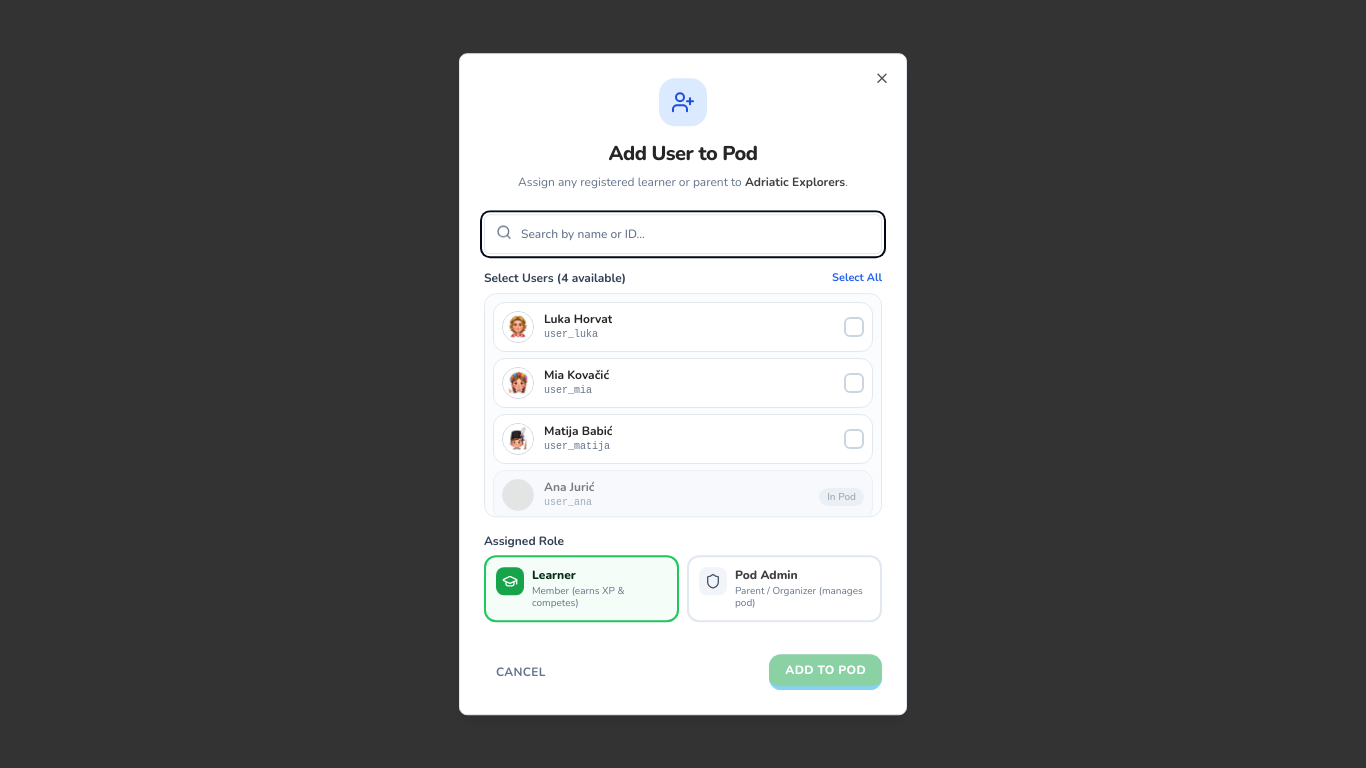
Test: <AddMemberToPodModal /> State Machine & Selection Logic › updates dynamic footer submit button text and disabled state based on count
The image size is (1366, 768).
Expected: the button "Add to Pod" is disabled, [769,654,882,690]
// Select 1 user (Luka)
Click the button "Luka Horvat user_luka": click(518, 327) [493,302,873,352]
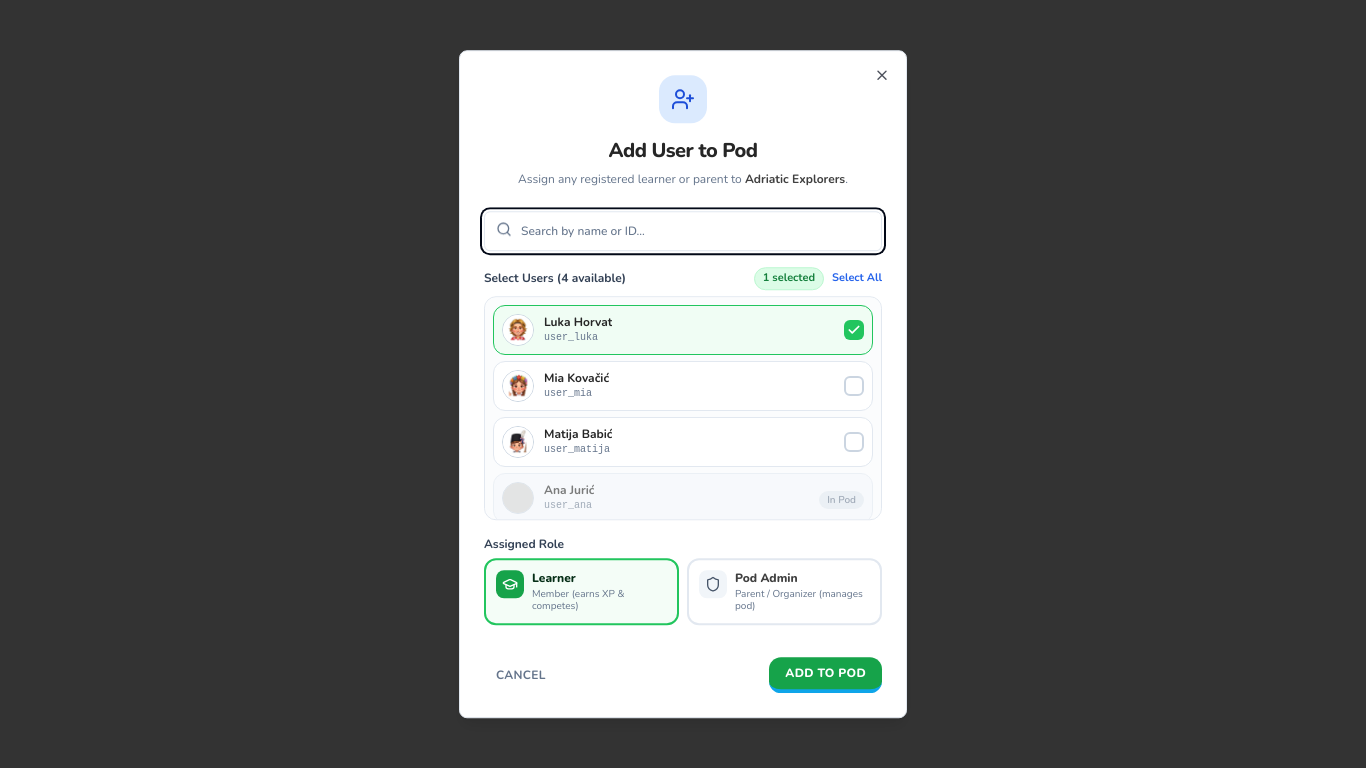
Expected: the button "Add to Pod" is shown, [769,657,882,693]
Result: the button "Add to Pod" is enabled at [769,657,882,693]
// Select 2nd user (Mia)
Click the button "Mia Kovačić user_mia": click(518, 386) [493,361,873,411]
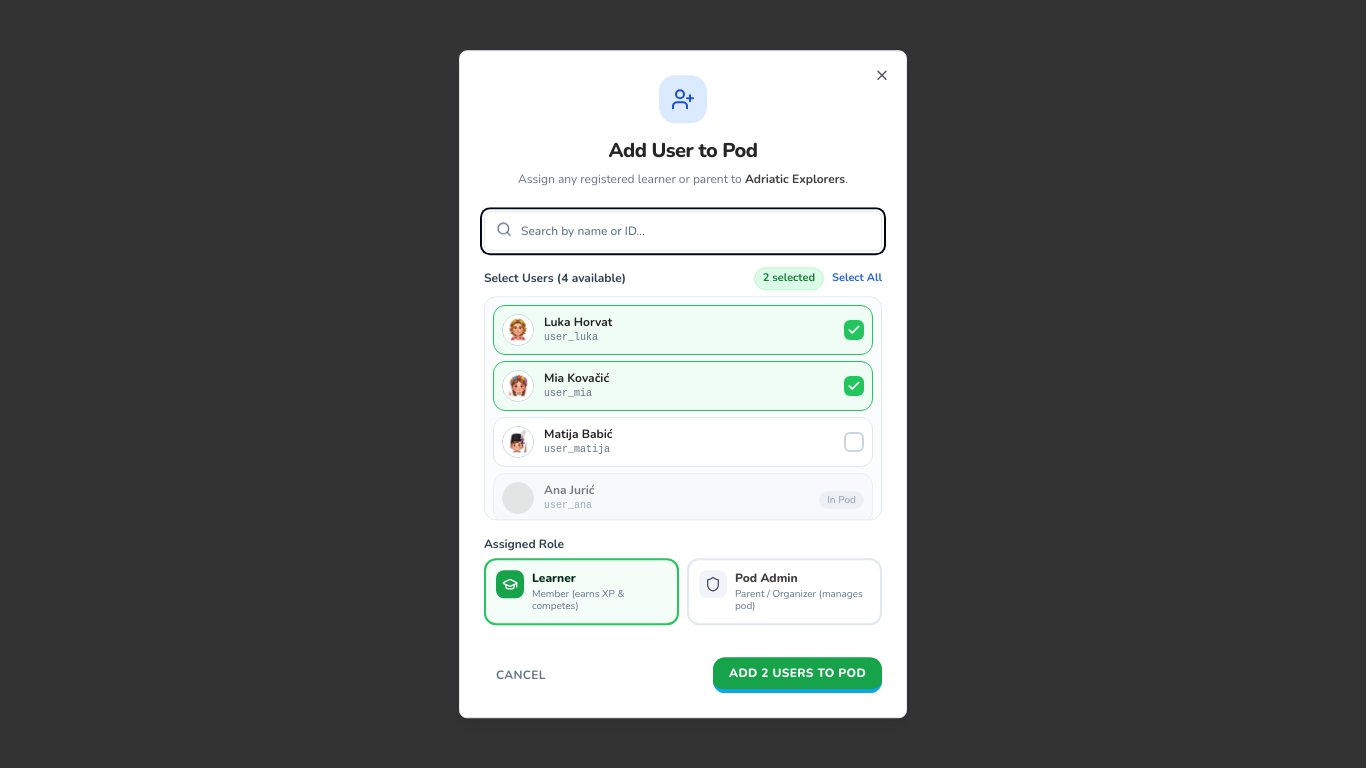
Result: the button "Add 2 Users to Pod" is enabled at [713,657,882,693]
// Select 3rd user (Matija)
Click the button "Matija Babić user_matija": click(518, 442) [493,417,873,467]
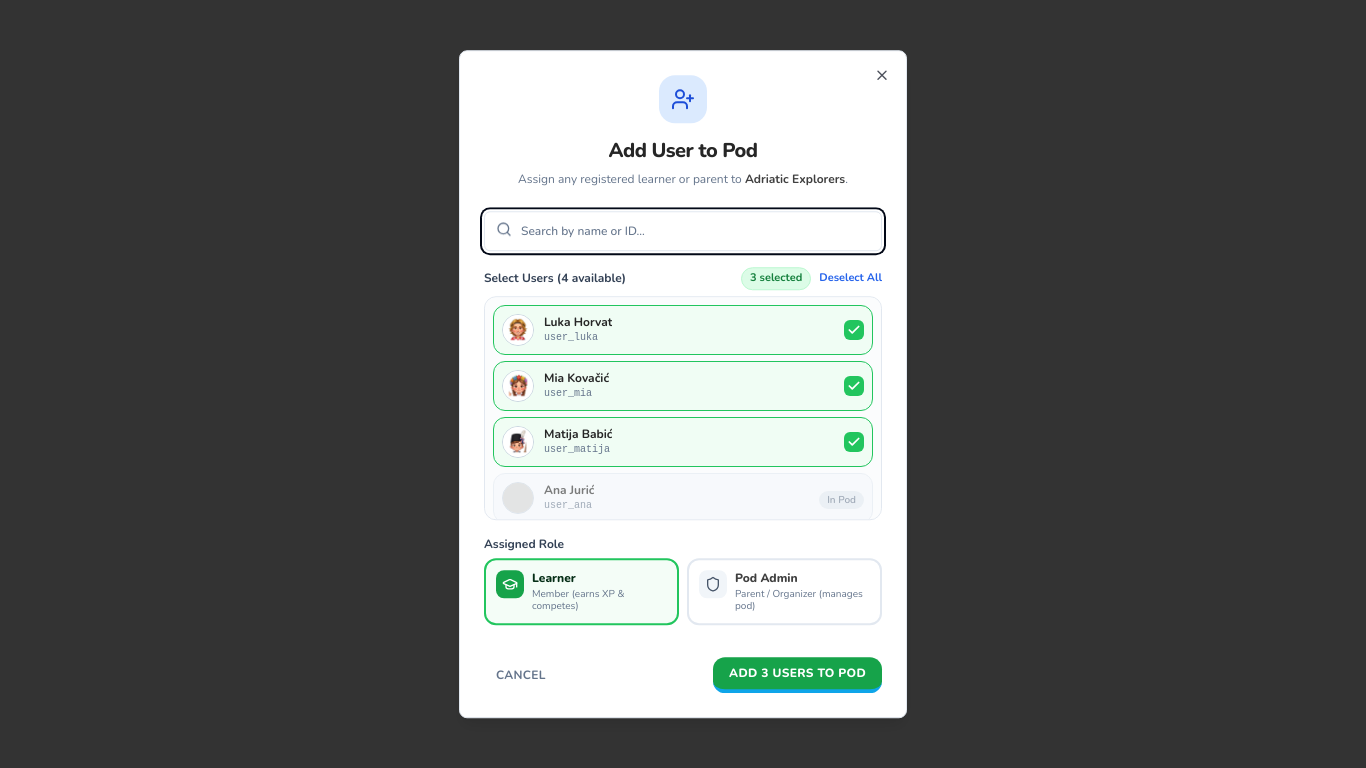
Result: the button "Add 3 Users to Pod" is enabled at [713,657,882,693]
// Deselect all
Click the button "Deselect All": click(851, 279) [819,270,882,287]
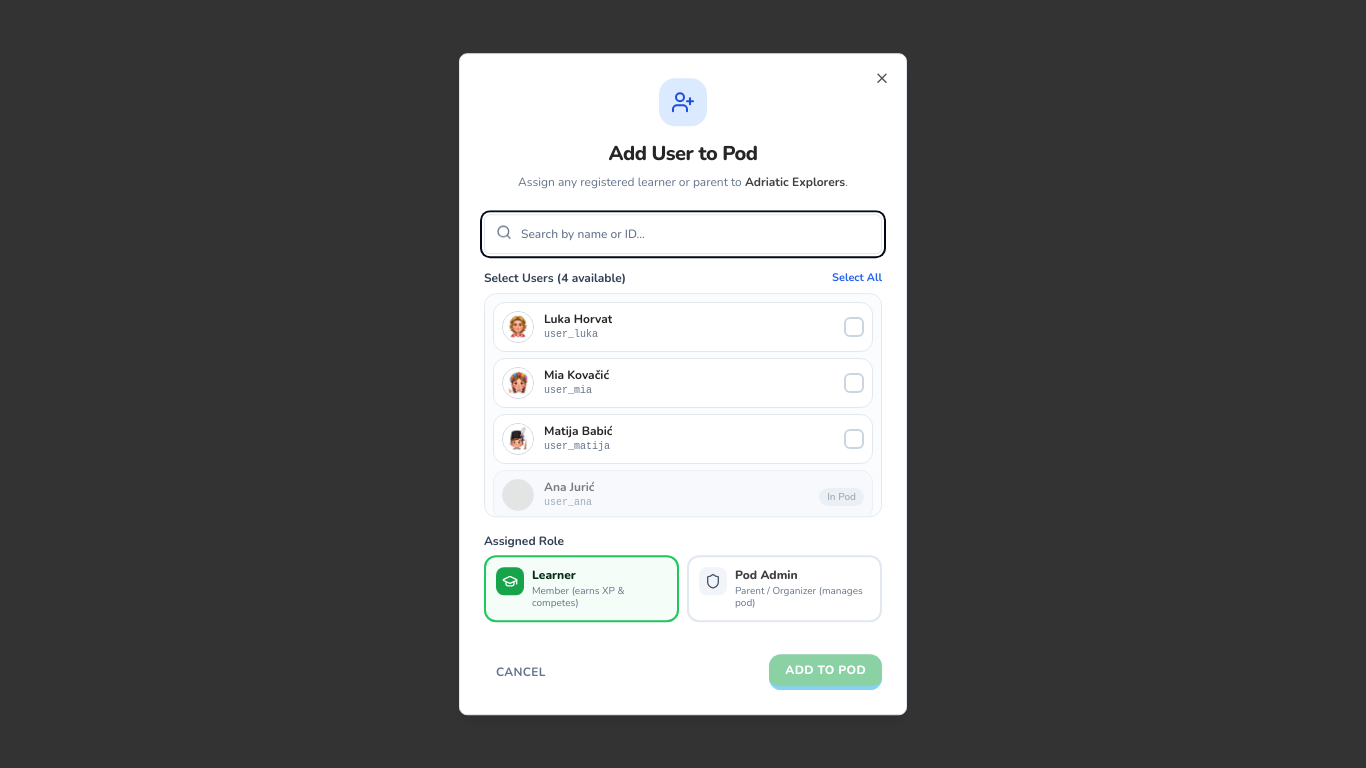
Result: the button "Add to Pod" is disabled at [769,654,882,690]
